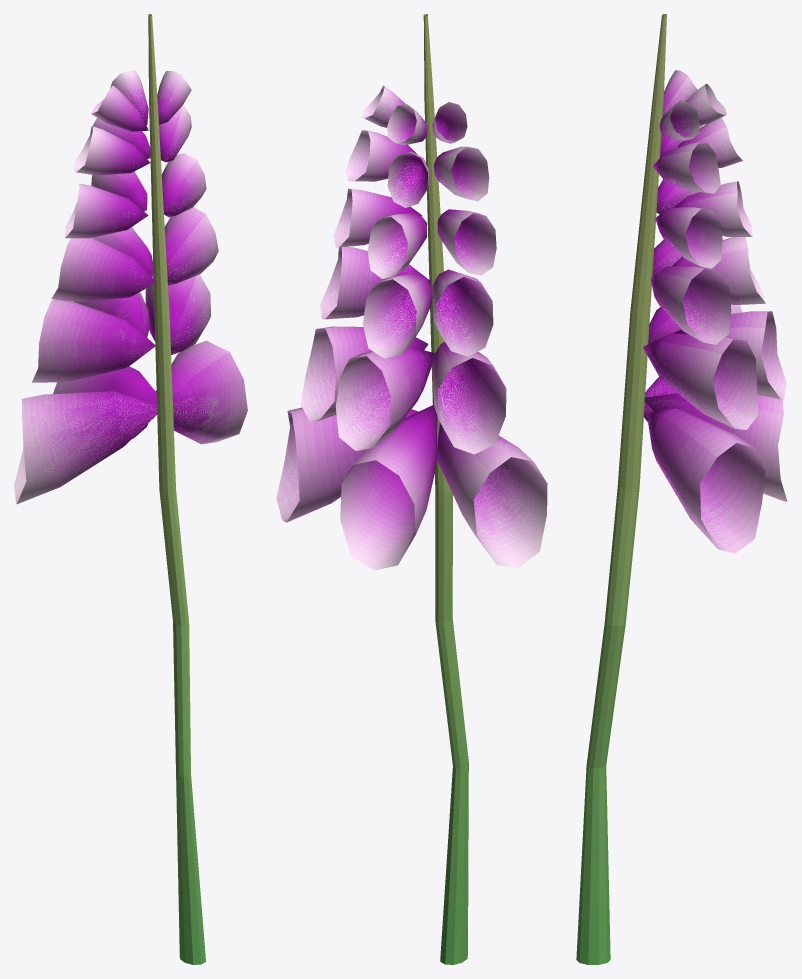
Rendered from Foxglove.fbx.
3 views of the same model, side by side, from view 1: azimuth 30°, elevation 25°; view 2: azimuth 150°, elevation 25°; view 3: azimuth 270°, elevation 25° (orthographic). The views are drawn at different scales.
Parts seen in each view (by area): view 1: Flowers, Cylinder; view 2: Flowers, Cylinder; view 3: Flowers, Cylinder.
Boxes of the visible parts, x1,y1,x2,y2 form: Flowers: [14, 70, 247, 504]; Cylinder: [148, 14, 205, 964]; Flowers: [276, 85, 547, 570]; Cylinder: [423, 14, 468, 964]; Flowers: [642, 70, 787, 553]; Cylinder: [576, 14, 666, 964].
Bounding box in the file's own units: 397 × 1474 × 300.
